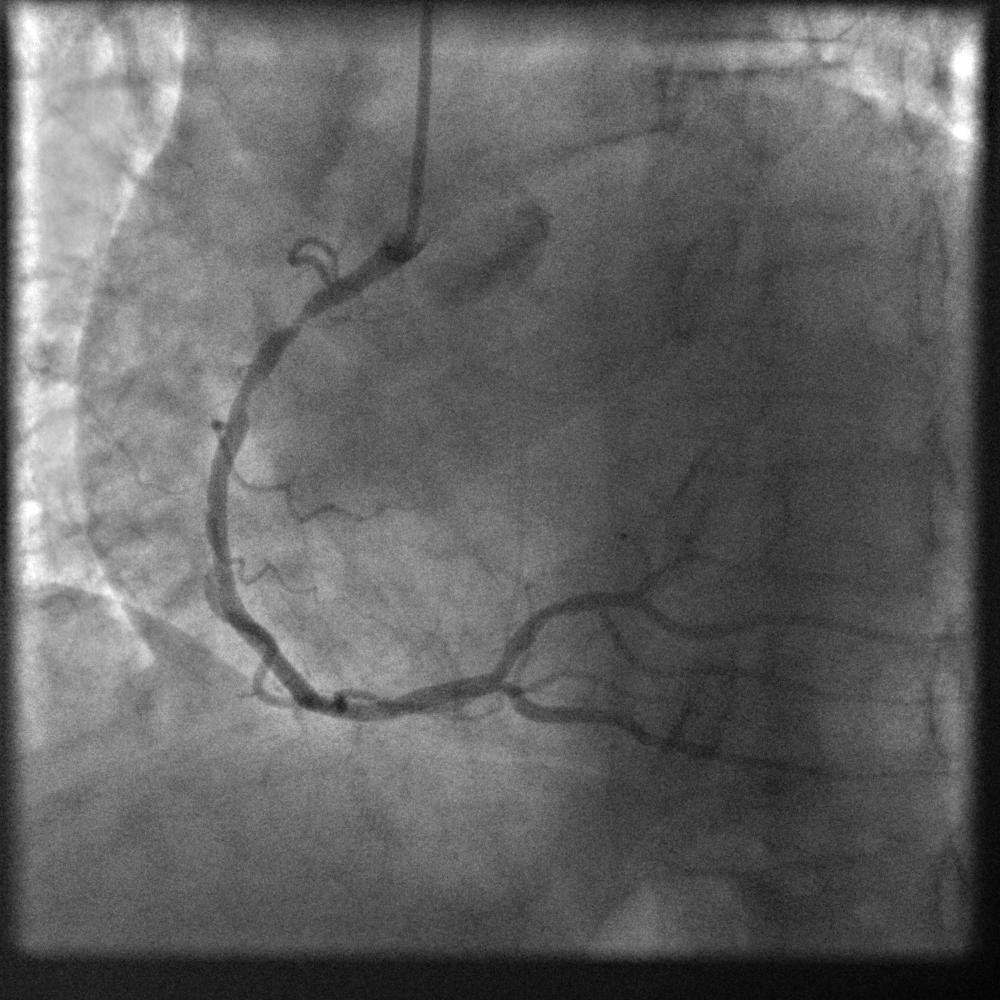Stenosis: (264, 296, 317, 342)
